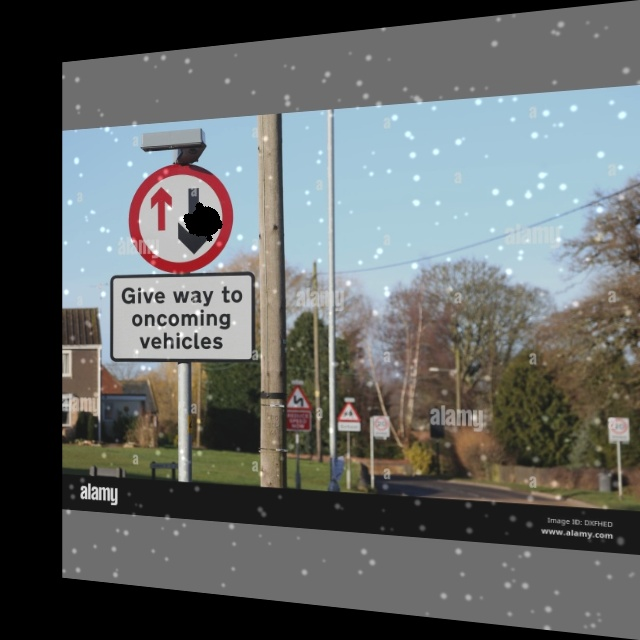Priority_for_Oncoming_Traffic: (128, 162, 232, 273)
